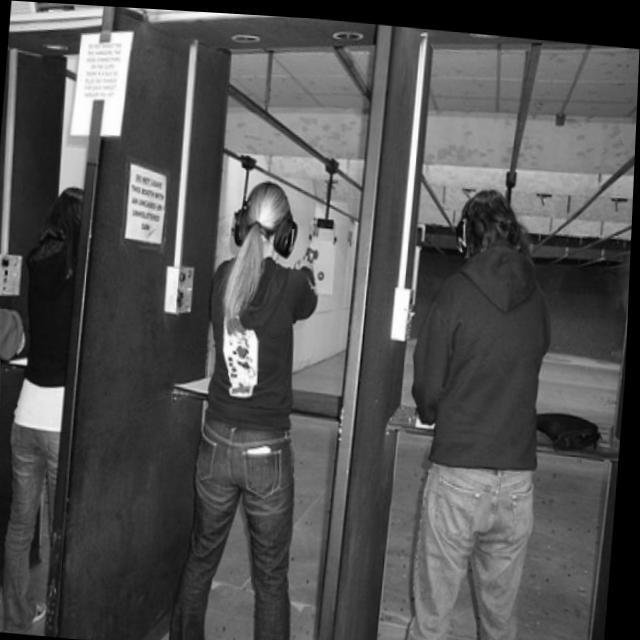weapon: (306, 240, 326, 263)
